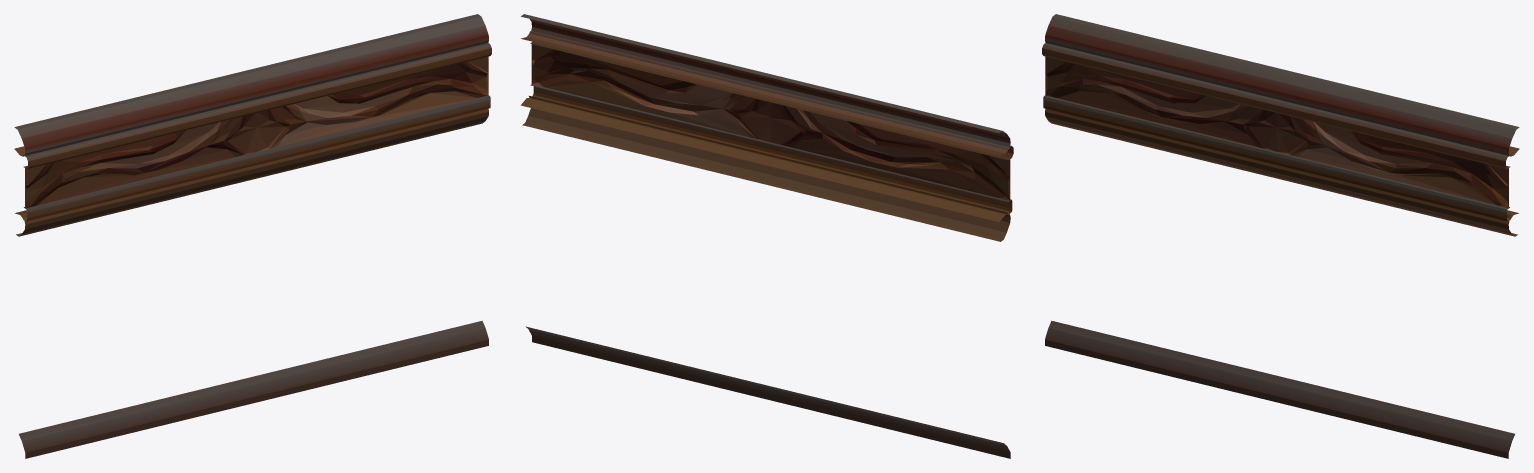
Rendered from Wall_HomeA-TrimB-6m.fbx.
3 views of the same model, side by side, from view 1: azimuth 30°, elevation 25°; view 2: azimuth 150°, elevation 25°; view 3: azimuth 330°, elevation 25° (orthographic). The views are drawn at different scales.
Visible parts, largest first — view 1: Wall_HomeA-TrimB-6m; view 2: Wall_HomeA-TrimB-6m; view 3: Wall_HomeA-TrimB-6m.
Part boxes in pixels (x1,y1,x2,y2): Wall_HomeA-TrimB-6m: (14, 14, 491, 458); Wall_HomeA-TrimB-6m: (520, 14, 1013, 458); Wall_HomeA-TrimB-6m: (1042, 14, 1519, 458).
Bounding box in the file's own units: 600 × 400 × 31.15.
